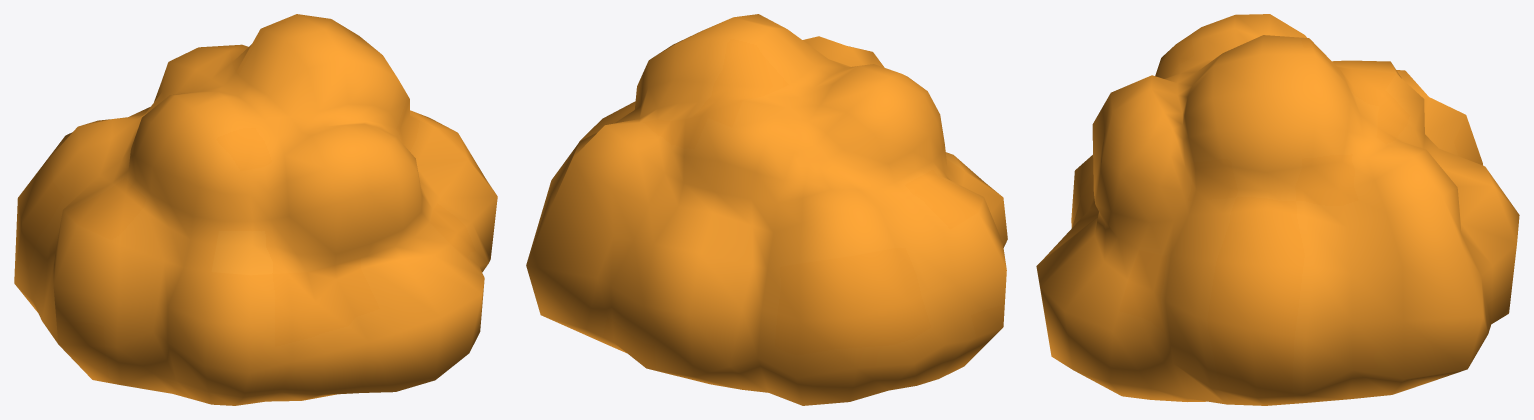
Rendered from Item_FrnNugget.fbx.
3 renders of one model, left to right at view 1: azimuth 30°, elevation 25°; view 2: azimuth 150°, elevation 25°; view 3: azimuth 270°, elevation 25°, orthographic. The views are drawn at different scales.
Visible parts, largest first — view 1: Cube.004; view 2: Cube.004; view 3: Cube.004.
Boxes of the visible parts, left/top/right/bottom form: Cube.004: left=14, top=14, right=497, bottom=405; Cube.004: left=526, top=14, right=1007, bottom=405; Cube.004: left=1036, top=14, right=1519, bottom=405.
Size of the model in its own units: 0.2758 by 0.185 by 0.2521.
